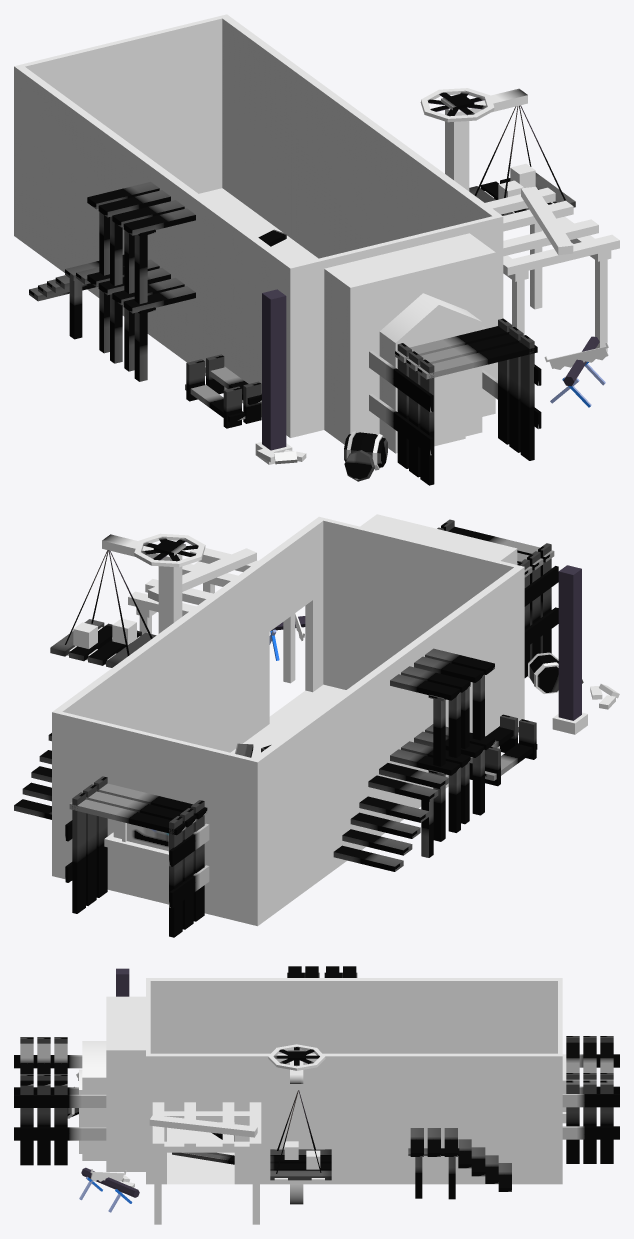
File: ChurchPhase01.fbx
The picture shows the model from 3 angles, top to bottom: view 1: azimuth 30°, elevation 25°; view 2: azimuth 150°, elevation 25°; view 3: azimuth 270°, elevation 25°; orthographic projection. The views are drawn at different scales.
Parts seen in each view (by area): view 1: ChurchPhase01; view 2: ChurchPhase01; view 3: ChurchPhase01.
Boxes of the visible parts, bbox=[...] form: ChurchPhase01: bbox=[14, 14, 619, 485]; ChurchPhase01: bbox=[14, 514, 619, 937]; ChurchPhase01: bbox=[14, 966, 619, 1224].
Bounding box in the file's own units: 5.36 × 2.36 × 8.59.
